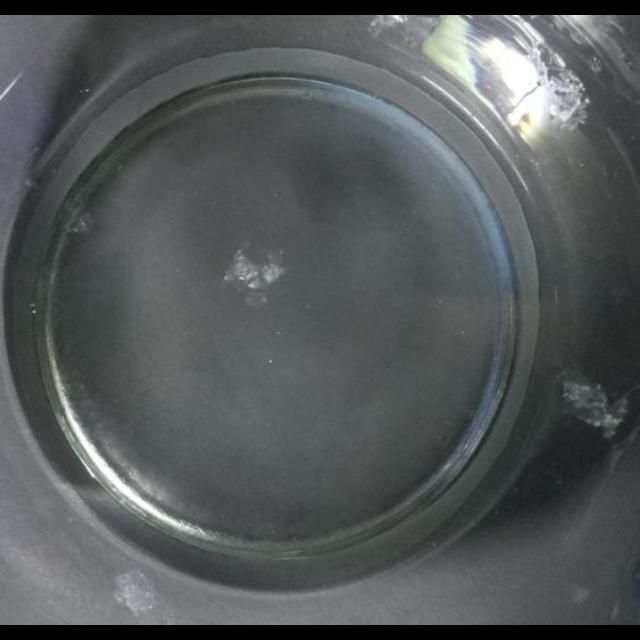Fibre: (558, 373, 632, 435), (222, 245, 286, 299)
